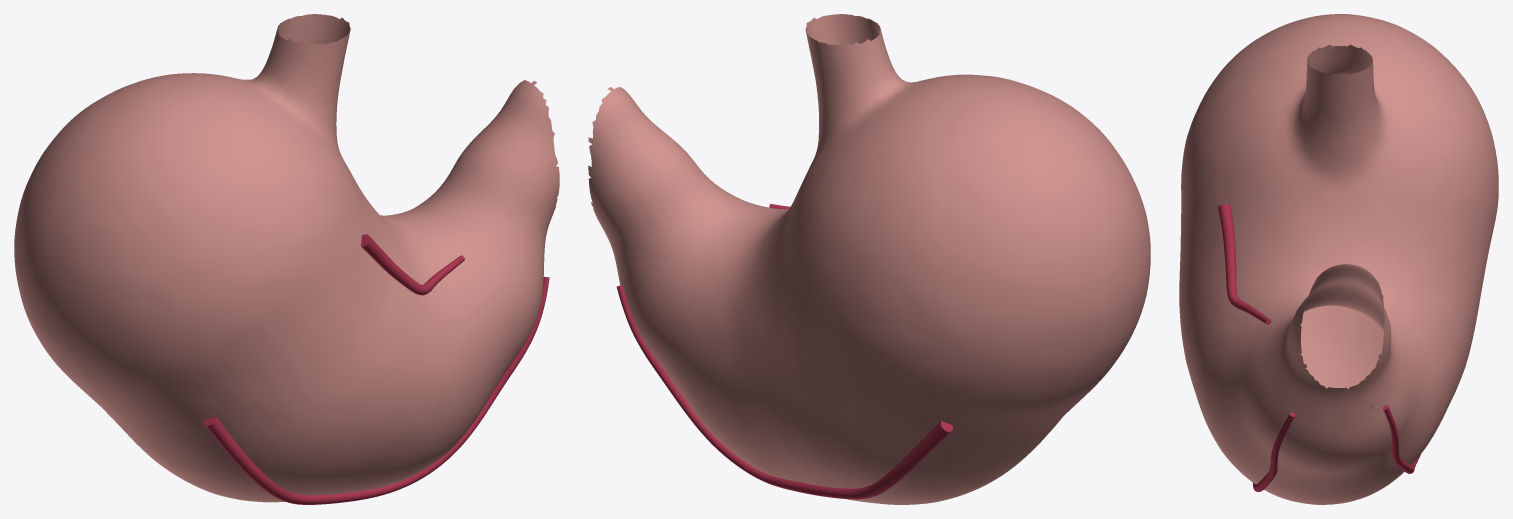
File: sac.glb
The picture shows the model from 3 angles, left to right: view 1: azimuth 30°, elevation 25°; view 2: azimuth 150°, elevation 25°; view 3: azimuth 270°, elevation 25°; orthographic projection. The views are drawn at different scales.
Parts seen in each view (by area): view 1: Sac, Vessels; view 2: Sac, Vessels; view 3: Sac, Vessels.
Boxes of the visible parts, <box> form: Sac: <box>14,14,559,502</box>; Vessels: <box>204,234,549,504</box>; Sac: <box>588,14,1150,504</box>; Vessels: <box>616,204,952,499</box>; Sac: <box>1179,14,1498,504</box>; Vessels: <box>1218,204,1420,491</box>.
Bounding box in the file's own units: 1.78 × 1.53 × 1.05.
